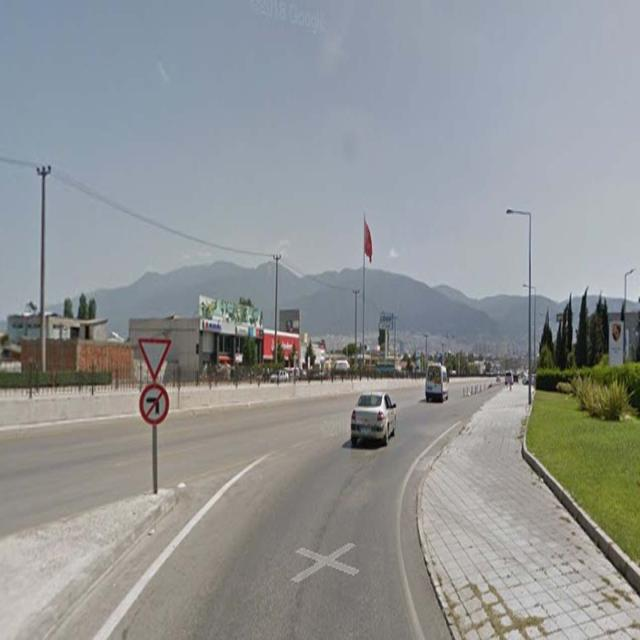soladonulmez: (140, 384, 170, 424)
